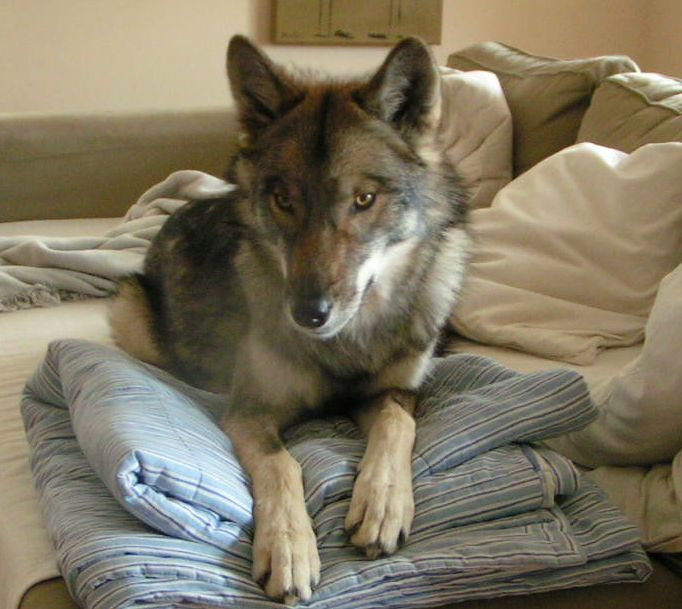Lobo: (109, 29, 475, 601)
